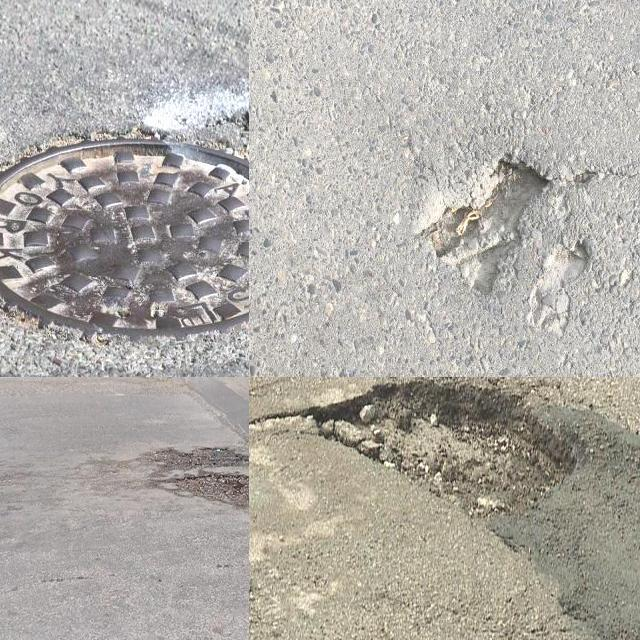Pothole: (300, 382, 587, 520), (425, 155, 552, 293), (155, 440, 249, 510), (523, 240, 590, 338)
